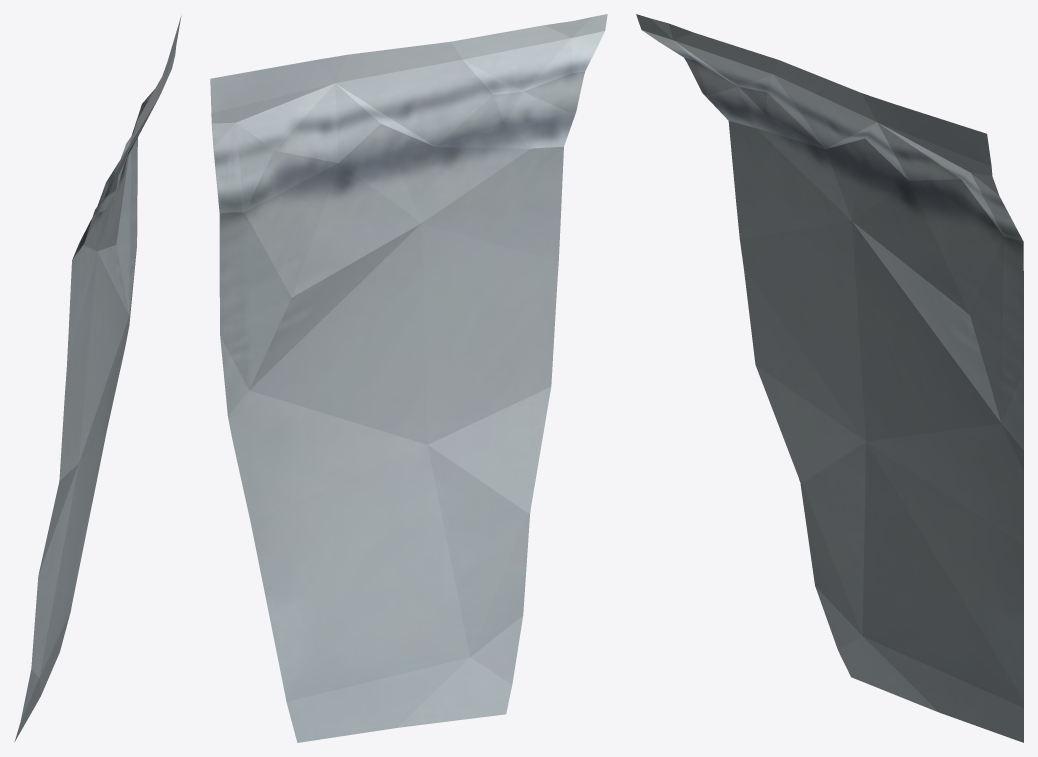
3 renders of one model, left to right at view 1: azimuth 30°, elevation 25°; view 2: azimuth 150°, elevation 25°; view 3: azimuth 270°, elevation 25°, orthographic. The views are drawn at different scales.
Bounding box in the file's own units: 0.6489 × 1.67 × 0.8878.
Materials: 1 (1 with a texture image).
